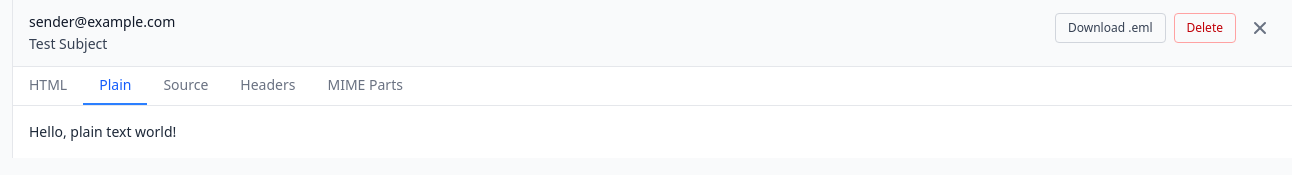
Test: MessageDetail: tab rendering › switches to MIME parts tab on click
Click the tab with test id "tab-parts": [365, 86] box [312, 67, 419, 105]
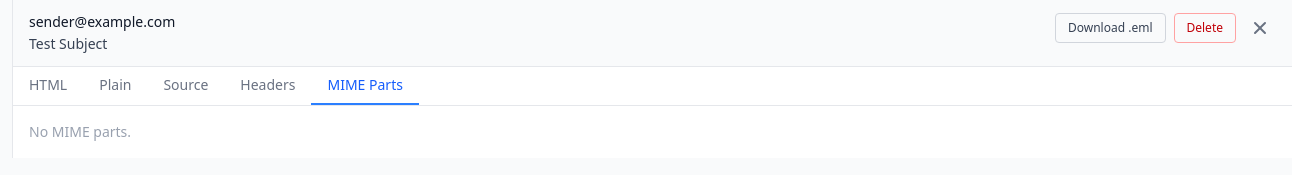
Now the panel with test id "panel-parts" is shown, box [29, 122, 131, 141]
